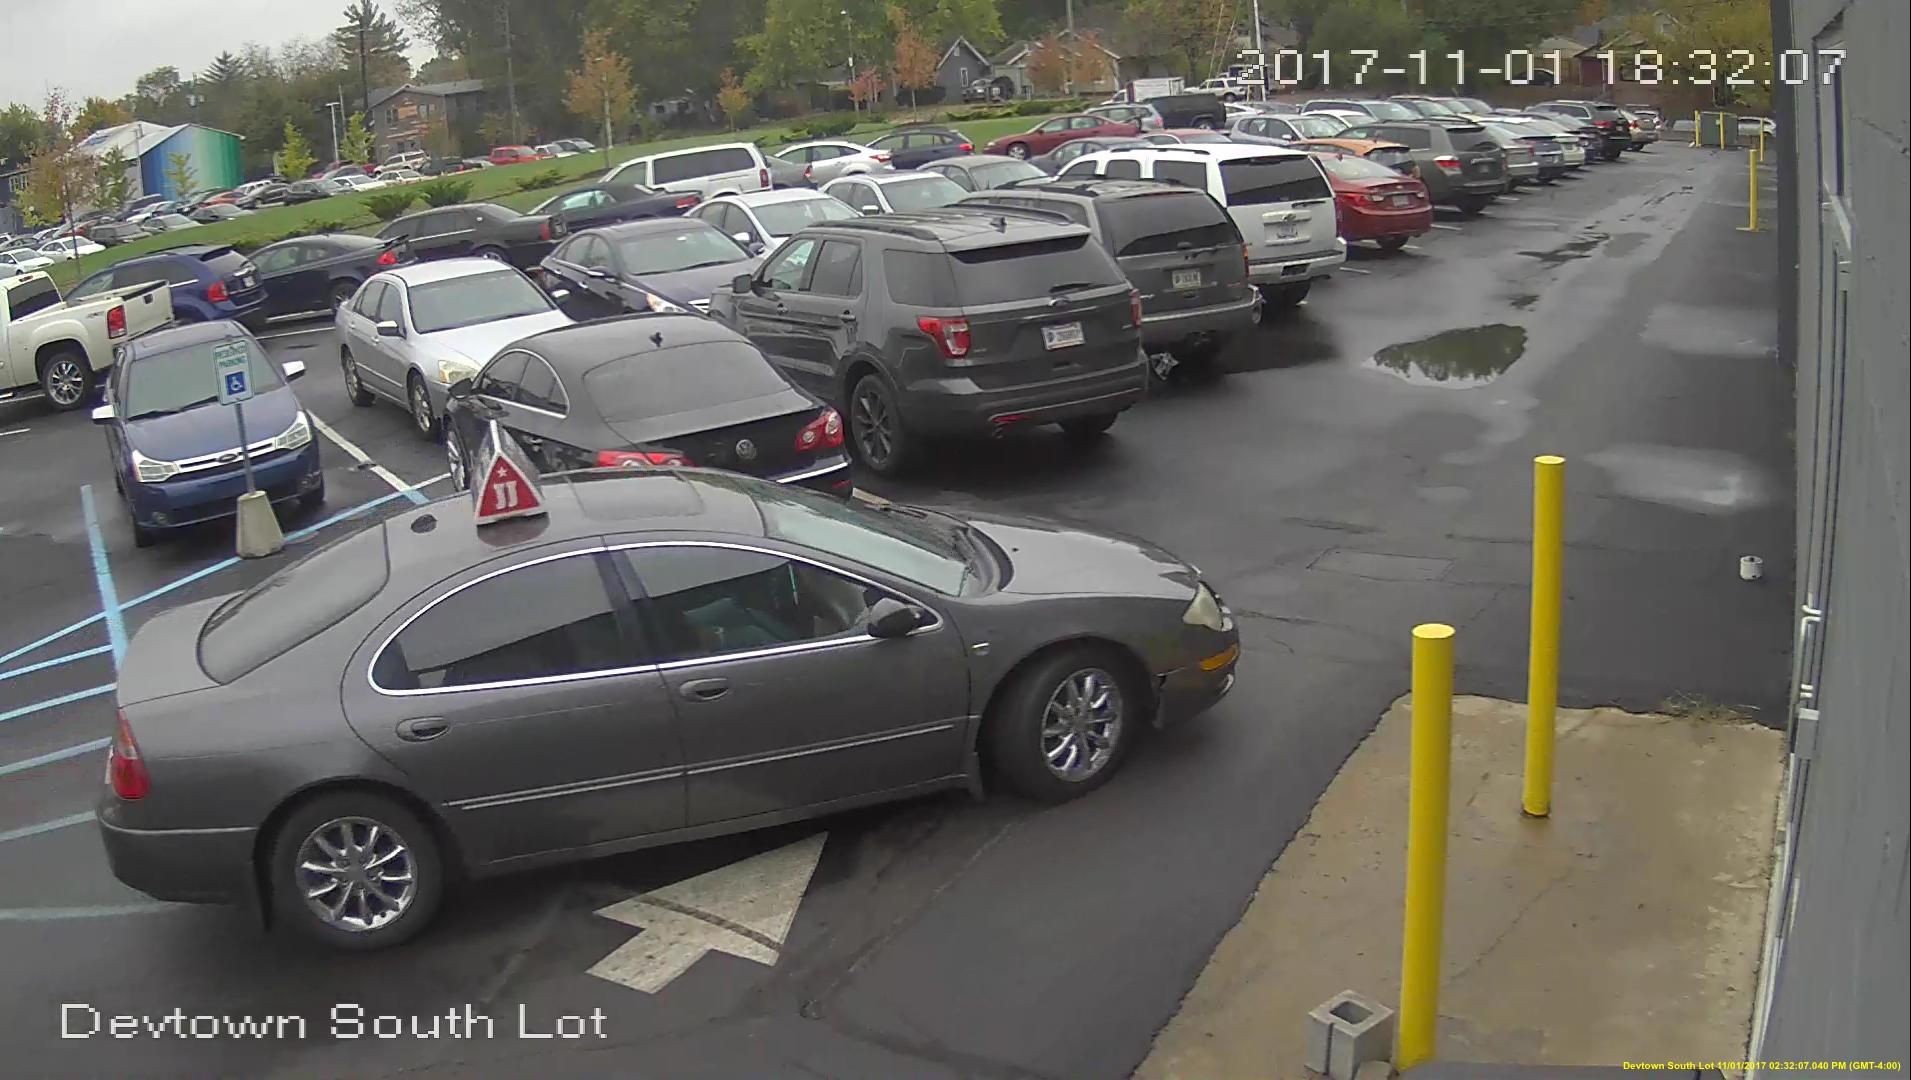jimmy_johns: (462, 420, 543, 534)
